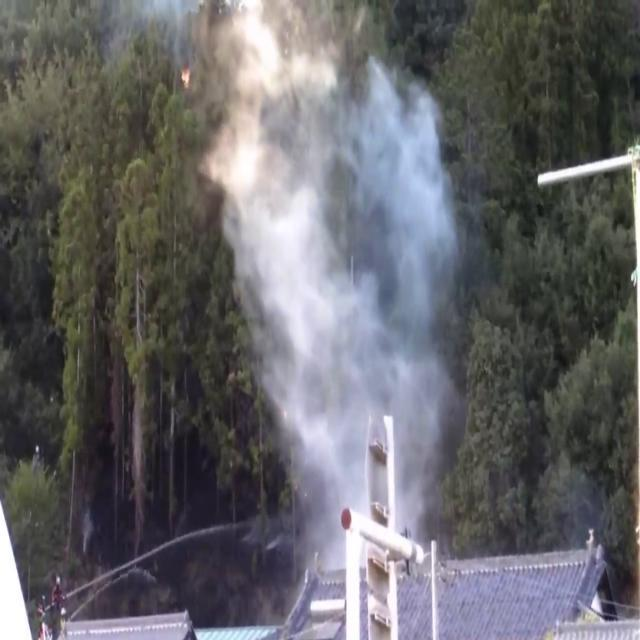Smoke: (190, 1, 466, 511)
